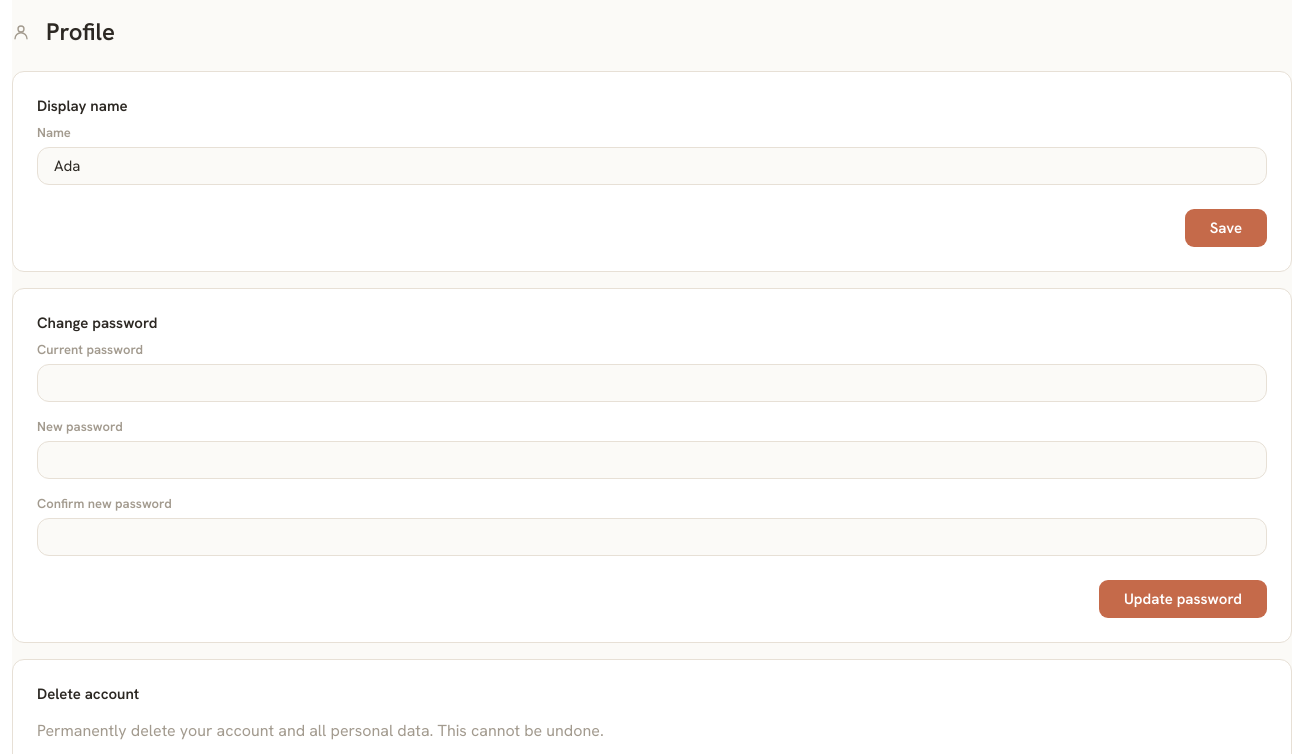
Test case: ProfilePage › rejects mismatched new passwords
Type "old" into the password field labelled "Current password" at (652, 383), box [37,364,1267,402]
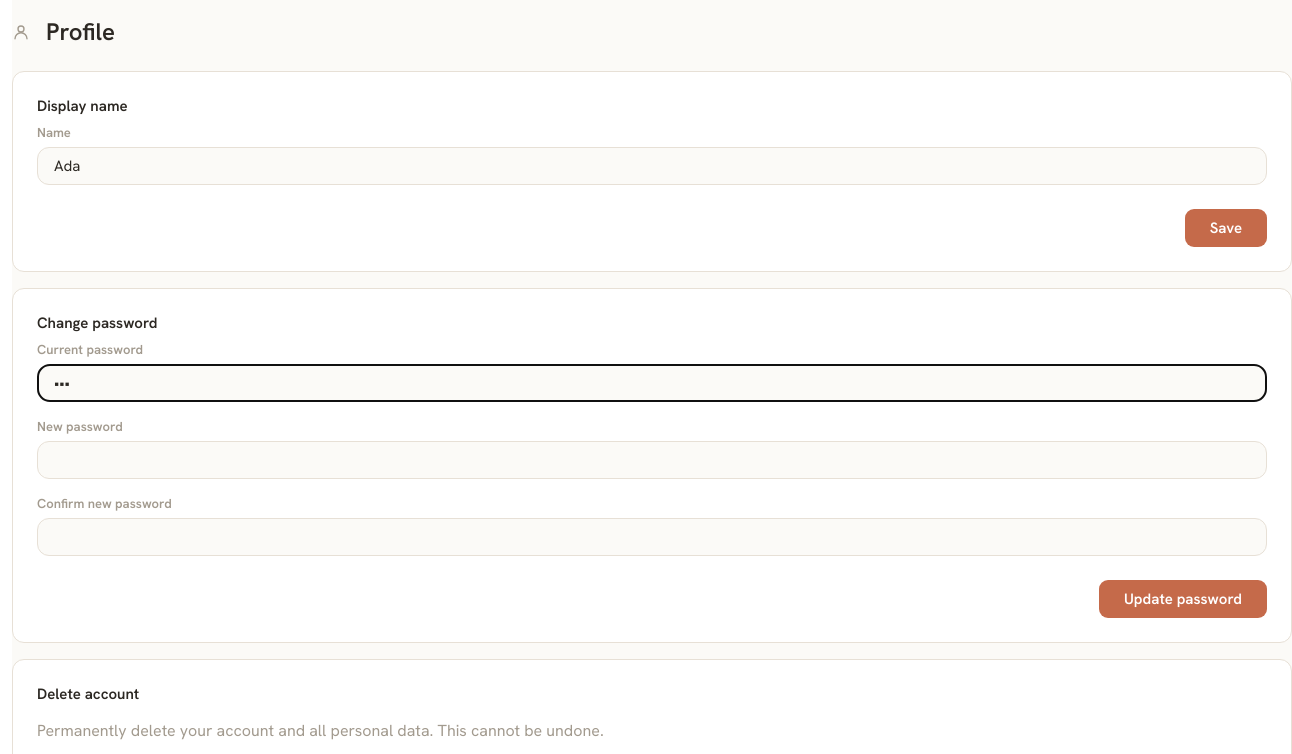
Type "newpass1" into the password field labelled "New password" at (652, 460), box [37,441,1267,479]
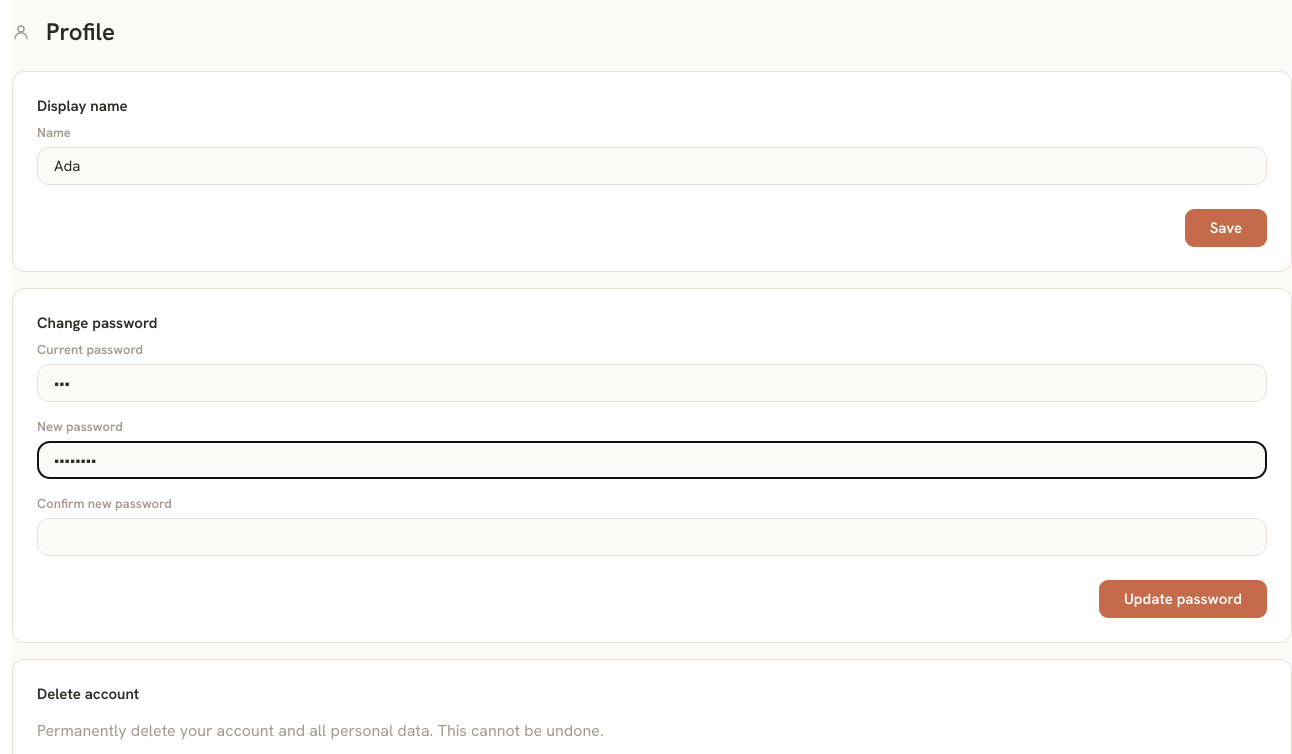
Type "newpass2" into the password field labelled "Confirm new password" at (652, 537), box [37,518,1267,556]
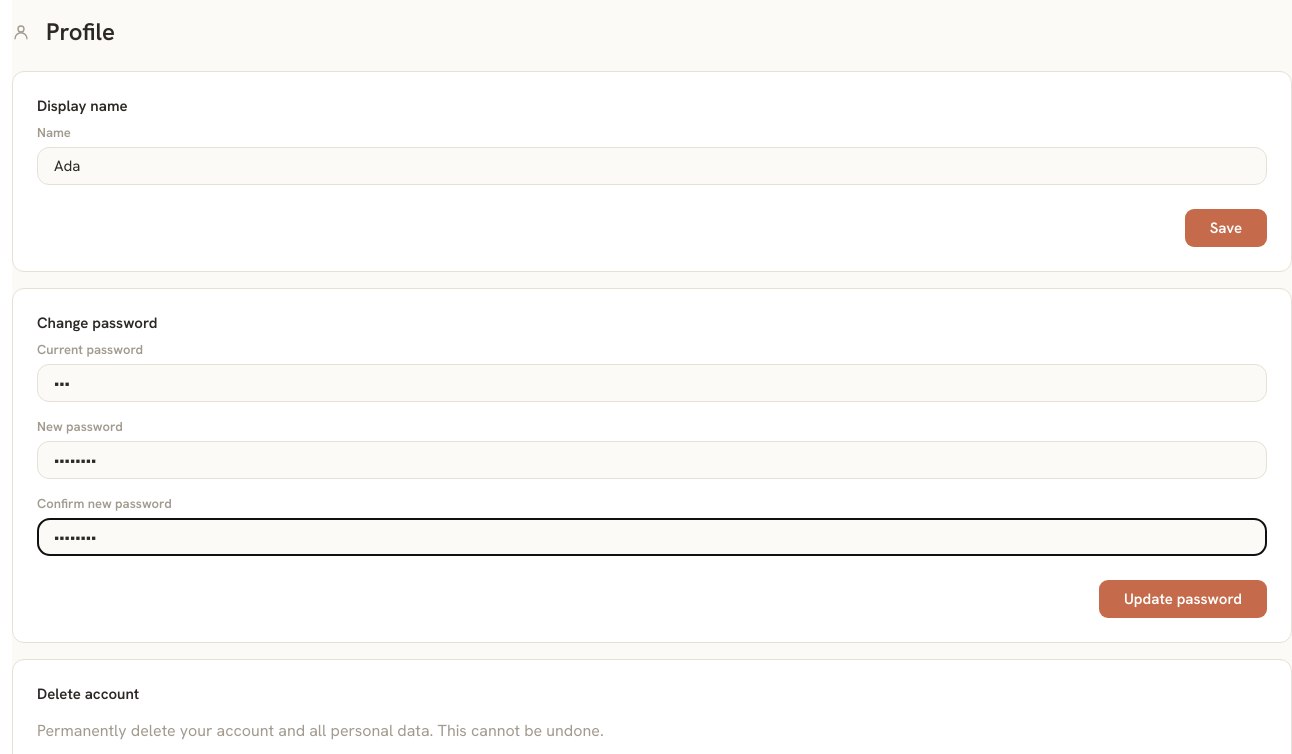
Click the button "Update password" at (1183, 599), box [1099,580,1267,618]
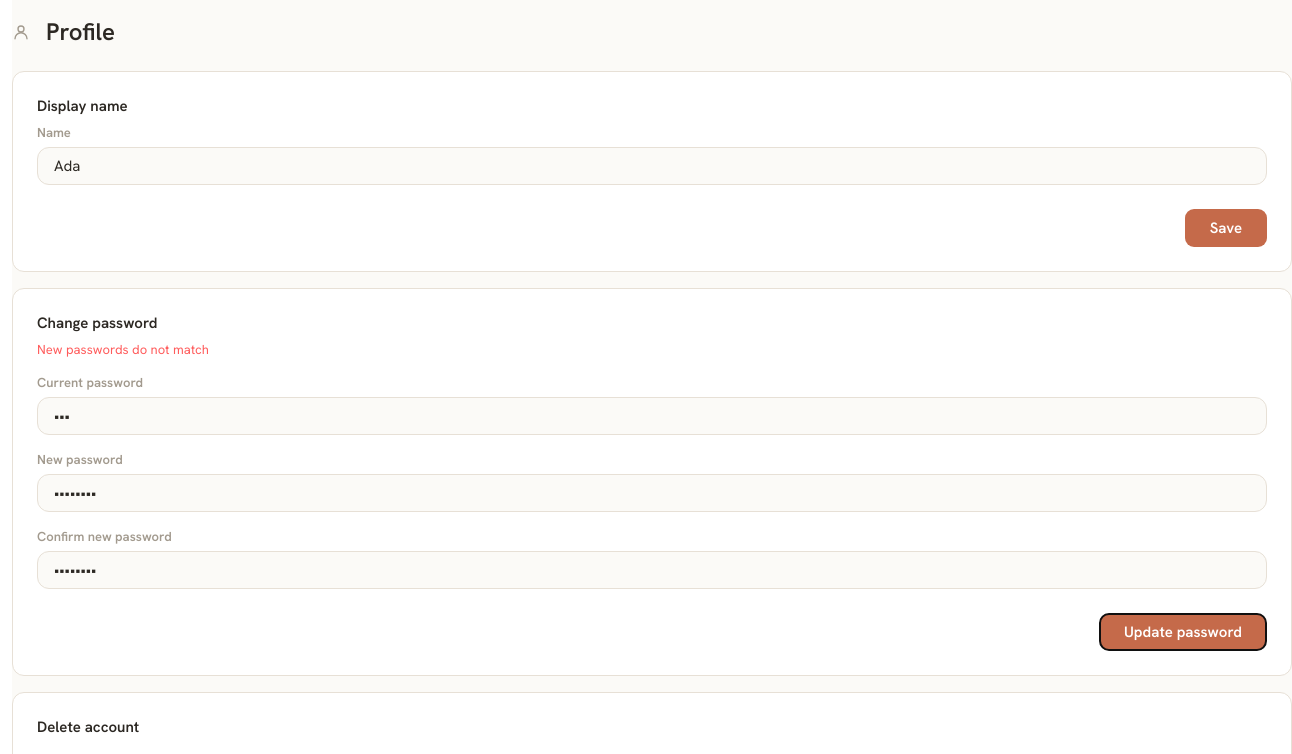
Now the text "New passwords do not match" is shown, box [37,341,209,358]
